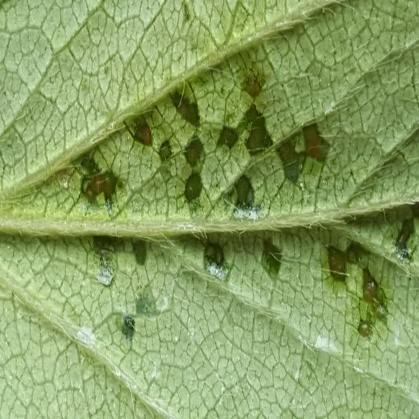Angular_LS: (42, 73, 418, 375)
